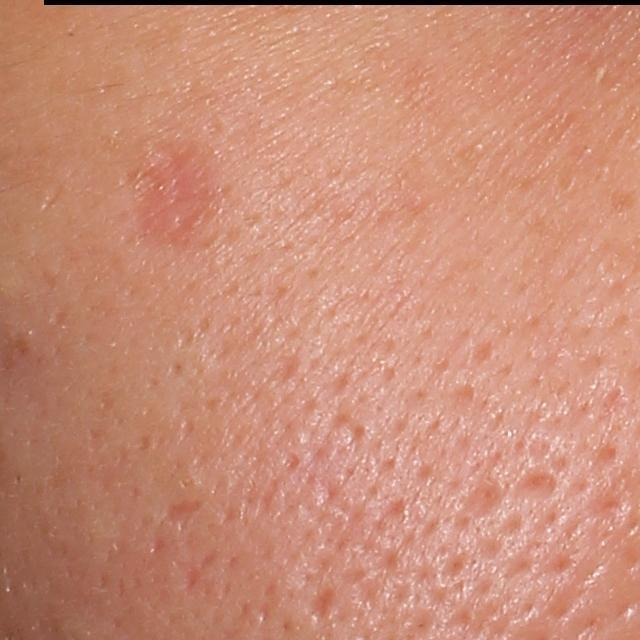atrophic_scar: (133, 128, 218, 248), (510, 463, 566, 506), (458, 473, 504, 521), (157, 494, 207, 534), (259, 354, 304, 392), (302, 584, 340, 626), (37, 179, 69, 213)
